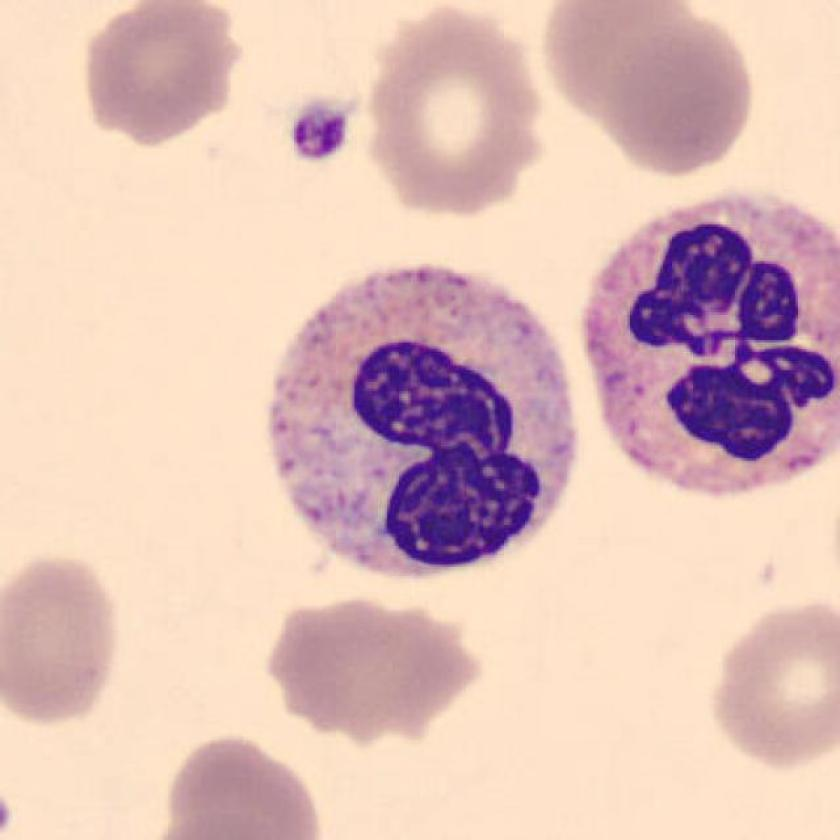neutrophil: (274, 266, 577, 573), (584, 193, 840, 493)
